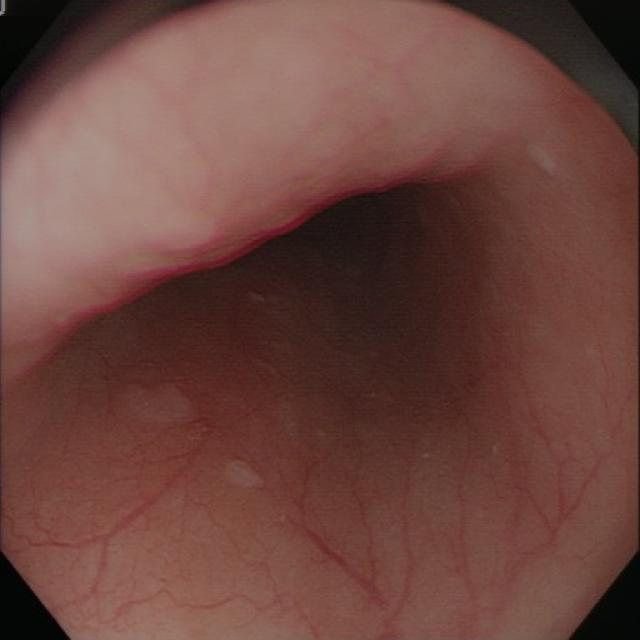E: (249, 164, 465, 365)
J: (115, 379, 266, 498), (524, 139, 560, 177)
